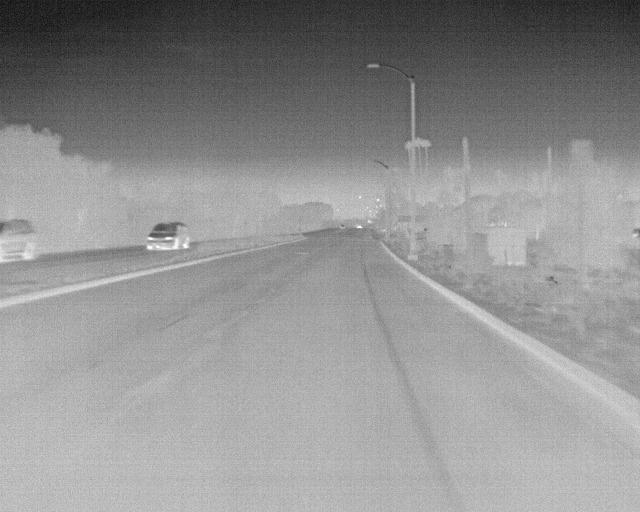car: (0, 213, 42, 262), (143, 223, 186, 252)
